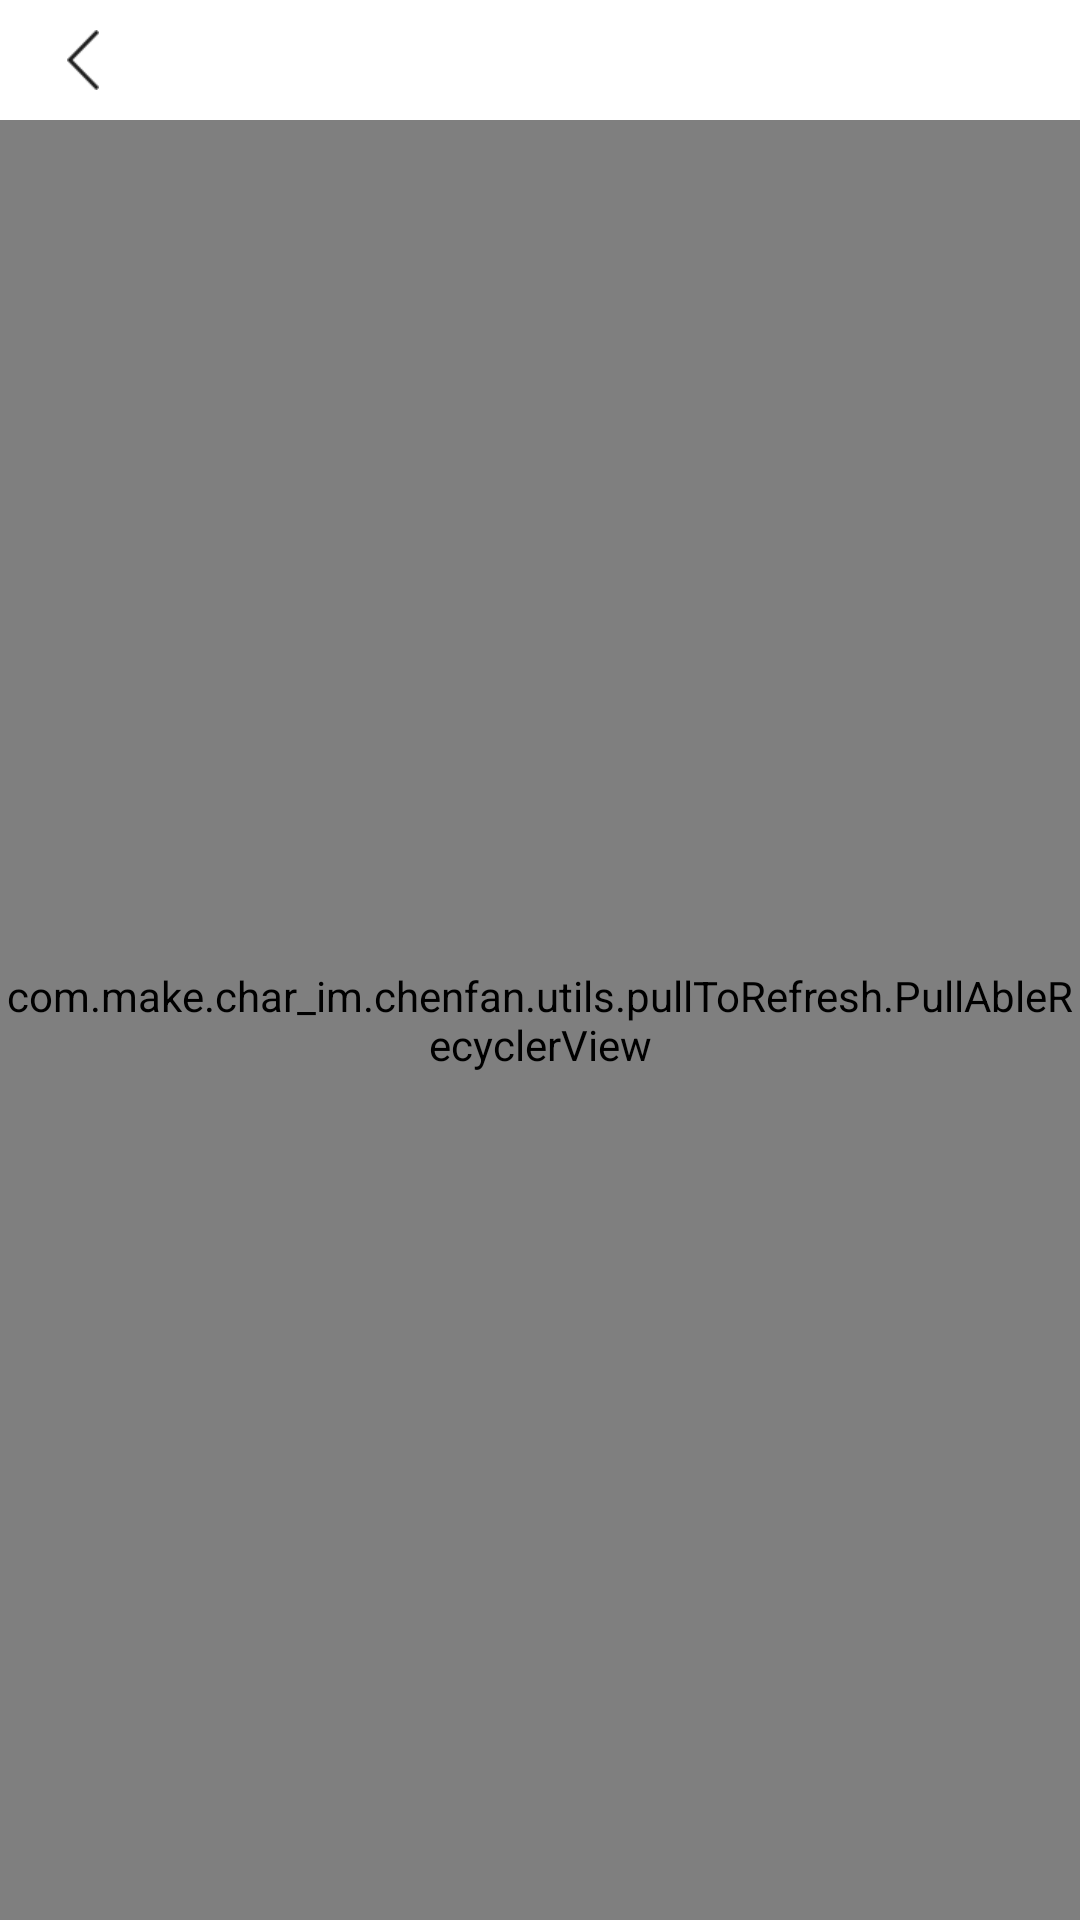

Named icons in this screenshot (1080 × 1920) and their centers, (x=x, y=y):
back: (x=83, y=60)
